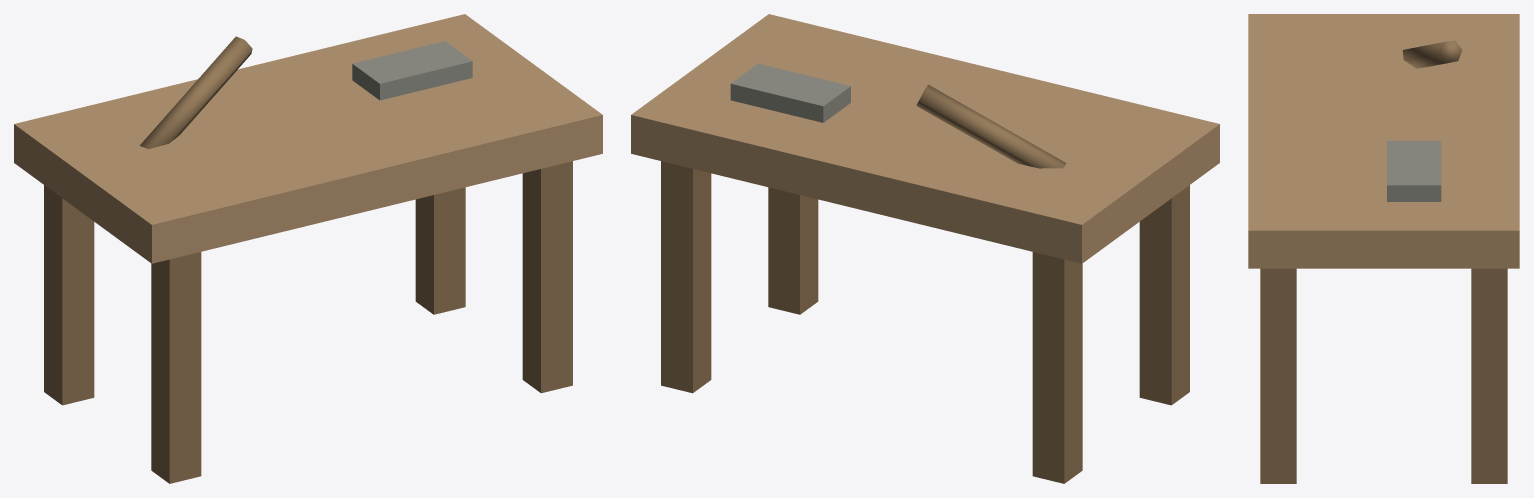
Rendered from workbench.glb.
3 views of the same model, side by side, from view 1: azimuth 30°, elevation 25°; view 2: azimuth 150°, elevation 25°; view 3: azimuth 270°, elevation 25° (orthographic).
Parts seen in each view (by area): view 1: Top, Leg, Leg.002, Leg.001, Leg.003, Vice, ToolHandle; view 2: Top, Leg.001, Leg.003, Leg, Leg.002, Vice, ToolHandle; view 3: Top, Leg.002, Leg.003, Vice, ToolHandle.
Boxes of the visible parts, x1,y1,x2,y2 form: Top: (14, 14, 602, 263); Leg: (151, 252, 201, 483); Leg.002: (522, 161, 572, 393); Leg.001: (44, 185, 94, 405); Leg.003: (415, 187, 465, 314); Vice: (352, 41, 472, 100); ToolHandle: (139, 36, 252, 149); Top: (631, 14, 1219, 263); Leg.001: (1032, 252, 1082, 483); Leg.003: (661, 161, 711, 393); Leg: (1139, 185, 1189, 405); Leg.002: (768, 187, 818, 314); Vice: (730, 63, 850, 122); ToolHandle: (916, 84, 1066, 168); Top: (1248, 14, 1519, 268); Leg.002: (1260, 268, 1296, 483); Leg.003: (1471, 268, 1507, 483); Vice: (1387, 141, 1441, 201); ToolHandle: (1402, 40, 1462, 68).
Size of the model in its own units: 1.7 by 1.21 by 0.9.
